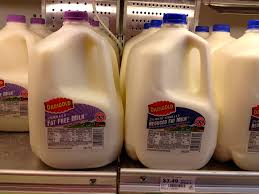milk: (126, 14, 219, 169), (36, 12, 114, 162), (2, 17, 31, 131), (232, 26, 259, 148)
